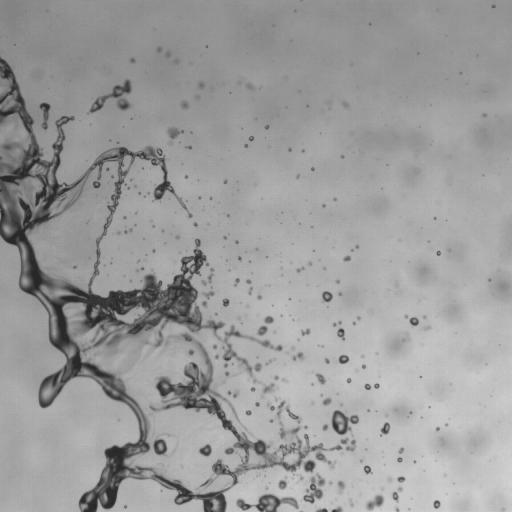droplet: (331, 410, 358, 434), (366, 494, 384, 511), (167, 127, 182, 144), (198, 443, 212, 457), (380, 422, 390, 435), (202, 289, 214, 299), (322, 291, 332, 303), (337, 354, 349, 364), (278, 476, 287, 489), (316, 373, 325, 384), (292, 352, 304, 360), (337, 481, 345, 493), (337, 327, 344, 340), (408, 317, 418, 326), (322, 397, 331, 405), (227, 391, 238, 397), (363, 465, 371, 473), (301, 328, 310, 335), (222, 298, 229, 306), (433, 500, 440, 508), (181, 101, 188, 108), (246, 83, 254, 89), (224, 371, 232, 377), (397, 476, 405, 482), (297, 474, 303, 481), (296, 267, 304, 272), (332, 321, 340, 326), (198, 82, 204, 88), (342, 101, 348, 107), (322, 424, 328, 430), (343, 256, 350, 261), (234, 278, 239, 285), (364, 384, 371, 389), (202, 301, 207, 307), (273, 375, 279, 380), (245, 410, 251, 415), (130, 58, 135, 63), (374, 383, 379, 388), (397, 457, 402, 462), (424, 326, 430, 330), (399, 447, 403, 453), (246, 279, 250, 284), (257, 295, 262, 299), (325, 358, 329, 363), (282, 378, 287, 382), (157, 47, 161, 51), (166, 52, 170, 56), (249, 136, 253, 140), (193, 222, 197, 226), (436, 251, 440, 255), (405, 332, 409, 336), (347, 378, 351, 382), (251, 387, 255, 391), (255, 402, 259, 406), (395, 507, 399, 511), (186, 146, 191, 149), (356, 316, 360, 319), (303, 425, 307, 428), (175, 60, 178, 63), (483, 113, 486, 116), (265, 125, 268, 128), (117, 231, 120, 234), (176, 235, 179, 238), (238, 257, 241, 260), (308, 262, 311, 265), (423, 315, 426, 318), (362, 365, 365, 368), (436, 427, 439, 430), (388, 478, 391, 481), (501, 508, 504, 511), (288, 148, 291, 150), (341, 155, 343, 158), (106, 168, 109, 170), (311, 168, 314, 170), (185, 175, 187, 178), (296, 175, 299, 177), (224, 180, 227, 182), (333, 198, 336, 200), (74, 265, 76, 268), (336, 280, 338, 283), (339, 292, 341, 295), (404, 315, 407, 317), (291, 347, 294, 349), (270, 419, 272, 422), (180, 465, 183, 467), (257, 473, 259, 476), (111, 175, 113, 177), (87, 222, 89, 224), (235, 241, 237, 243), (356, 246, 358, 248), (353, 322, 355, 324), (445, 423, 447, 425), (197, 464, 199, 466), (329, 482, 331, 484)
ligament: (0, 57, 336, 511), (88, 79, 131, 113), (236, 493, 299, 511), (328, 438, 356, 451), (257, 316, 273, 335), (39, 102, 50, 129), (202, 268, 213, 285), (392, 486, 402, 501), (331, 506, 343, 511), (315, 508, 328, 511), (348, 499, 353, 506), (124, 229, 132, 233), (266, 359, 272, 364), (248, 287, 252, 294), (299, 510, 302, 511)
